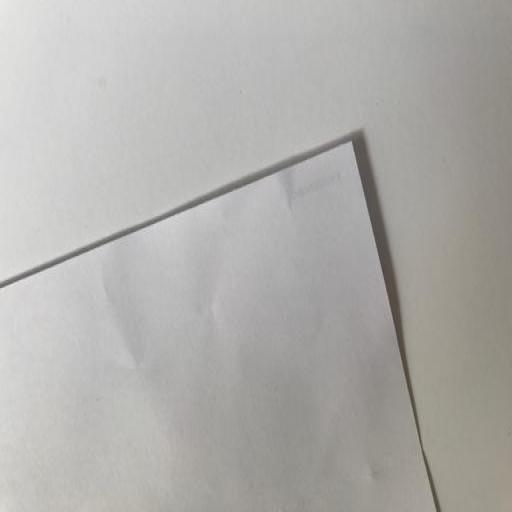paper: (0, 136, 439, 512)
